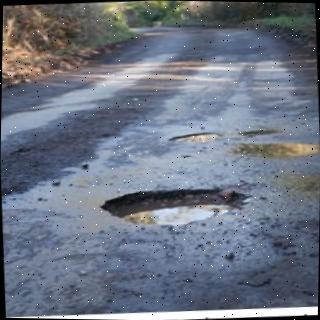pothole: (99, 189, 246, 225), (236, 143, 319, 156), (169, 132, 224, 141), (239, 128, 277, 138)
